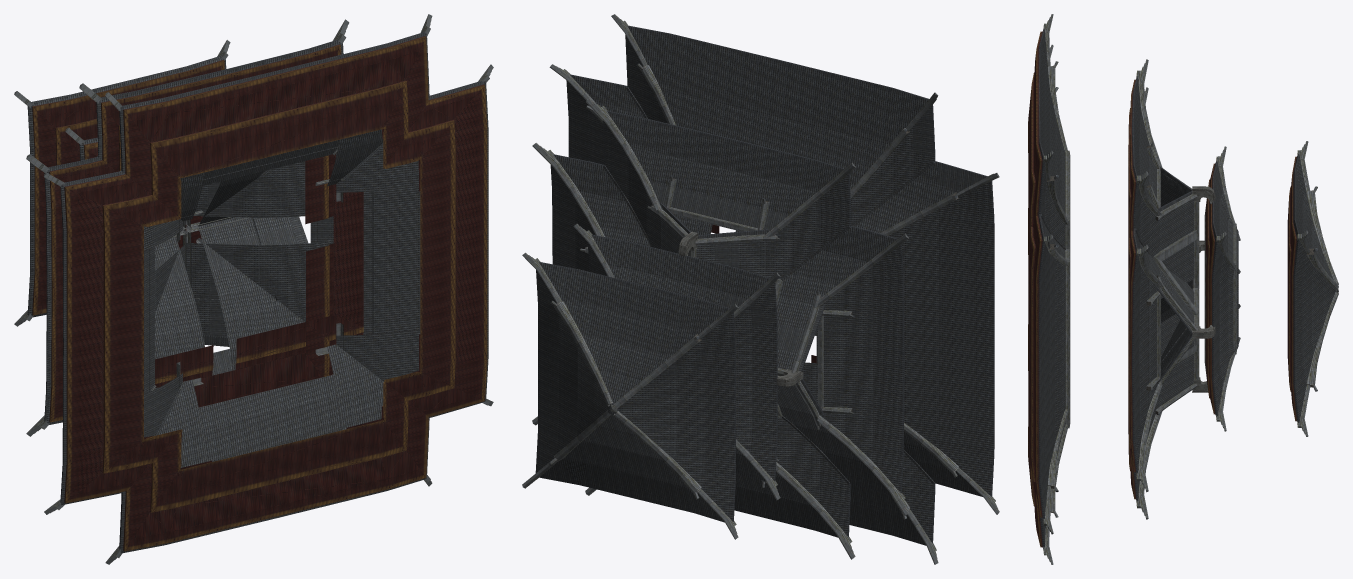
3 renders of one model, left to right at view 1: azimuth 30°, elevation 25°; view 2: azimuth 150°, elevation 25°; view 3: azimuth 270°, elevation 25°, orthographic. The views are drawn at different scales.
Parts seen in each view (by area): view 1: wu_wa; view 2: wu_wa; view 3: wu_wa.
Part boxes in pixels (<box>): wu_wa: <box>14,14,493,564</box>; wu_wa: <box>522,14,999,564</box>; wu_wa: <box>1028,14,1338,564</box>.
Size of the model in its own units: 1813 by 1821 by 1239.
Materials: 1 (1 with a texture image).
